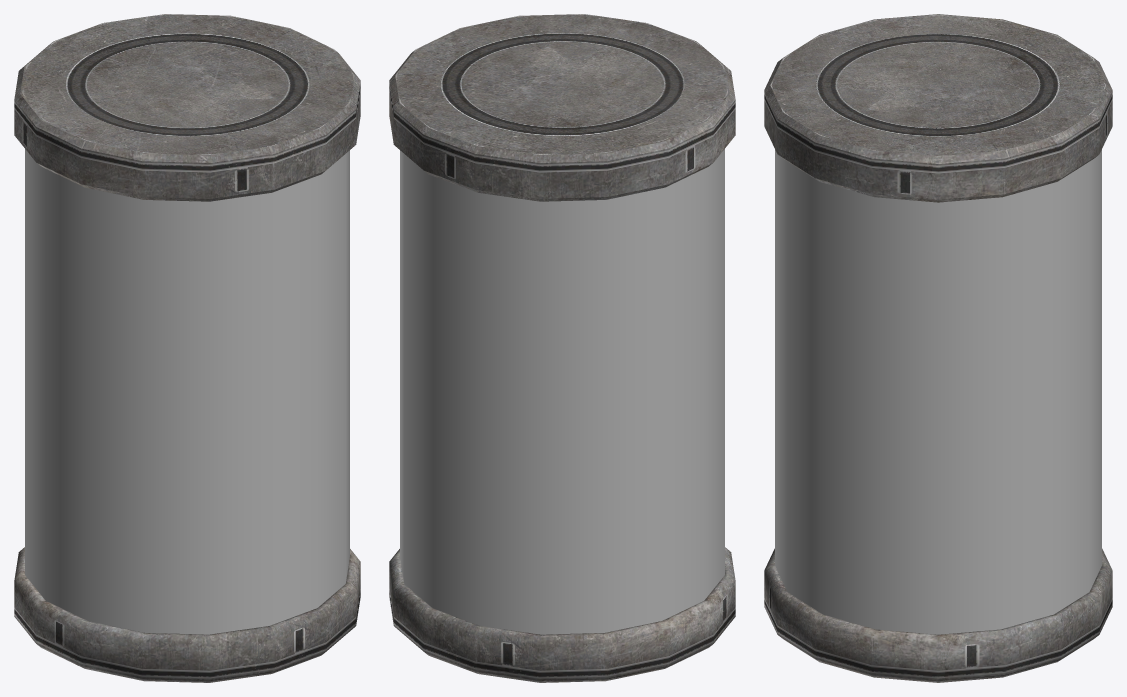
Rendered from 03_02_preserved_sample_jar.dae.
3 views of the same model, side by side, from view 1: azimuth 30°, elevation 25°; view 2: azimuth 150°, elevation 25°; view 3: azimuth 270°, elevation 25° (orthographic).
Visible parts, largest first — view 1: pCylinder5, polySurface1; view 2: pCylinder5, polySurface1; view 3: pCylinder5, polySurface1.
Part boxes in pixels (box(x1,y1,x2,y2)): pCylinder5: box(25, 149, 349, 634); polySurface1: box(14, 14, 360, 682); pCylinder5: box(400, 149, 724, 634); polySurface1: box(389, 14, 735, 682); pCylinder5: box(775, 149, 1101, 634); polySurface1: box(764, 14, 1112, 682).
Bounding box in the file's own units: 0.6 × 1 × 0.6.
